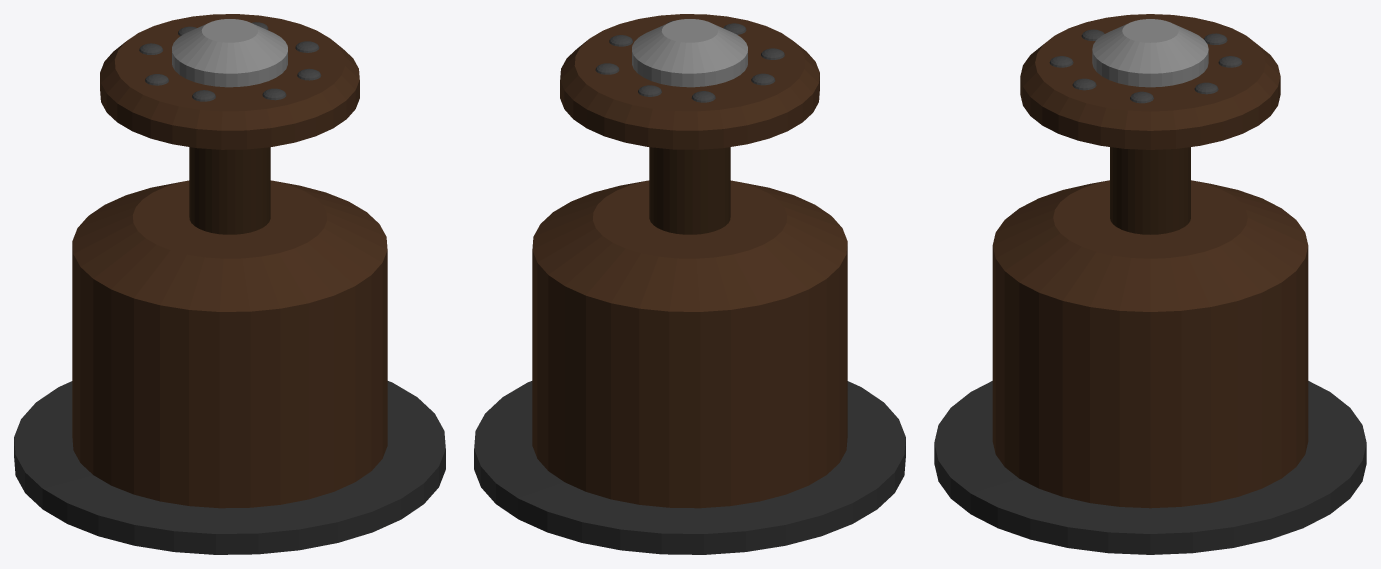
The model's file is Spinner.fbx.
3 views of the same model, side by side, from view 1: azimuth 30°, elevation 25°; view 2: azimuth 150°, elevation 25°; view 3: azimuth 270°, elevation 25° (orthographic).
Visible parts, largest first — view 1: Base, Spinner; view 2: Base, Spinner; view 3: Base, Spinner.
Part boxes in pixels (box(x1,y1,x2,y2)): Base: box(14, 14, 445, 554); Spinner: box(189, 147, 270, 234); Base: box(474, 14, 905, 554); Spinner: box(649, 147, 730, 234); Base: box(934, 14, 1366, 554); Spinner: box(1110, 147, 1190, 234).
Bounding box in the file's own units: 325 × 359 × 325.
